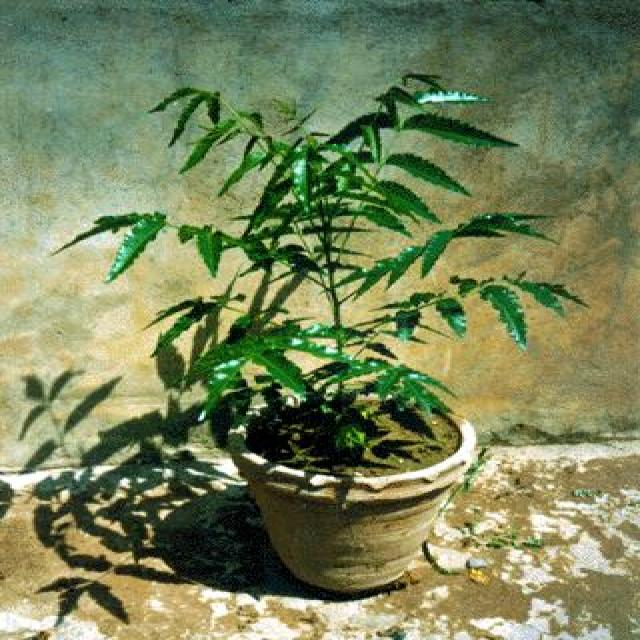Medicinal-Neem: (61, 52, 592, 434)
